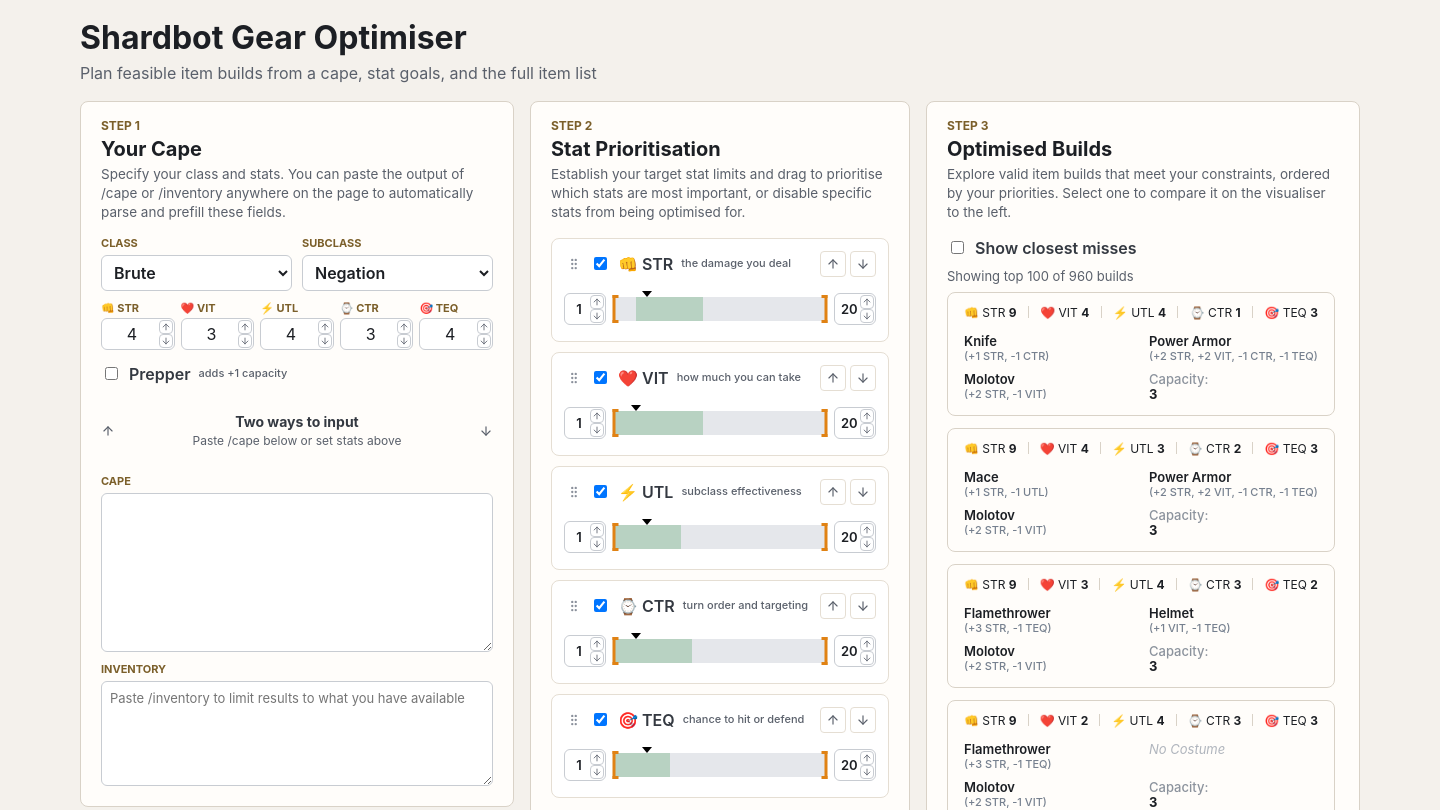
App › normalizes base stat inputs when committed
Step 1. Replace the text in the field named "strength" with "04" → (138, 334), box [101,318,175,350]
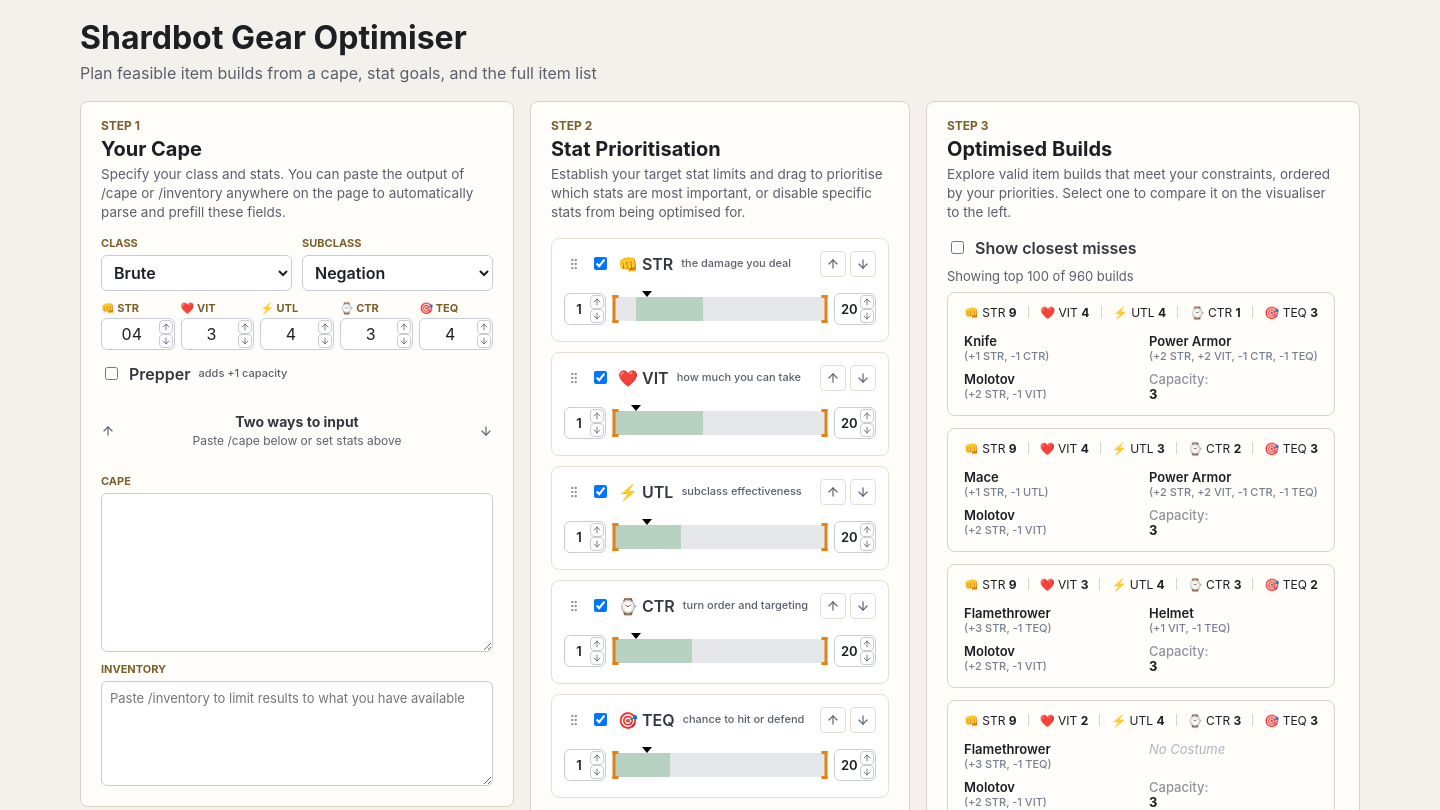
Step 2. Leave the field named "strength", box [101,318,175,350]
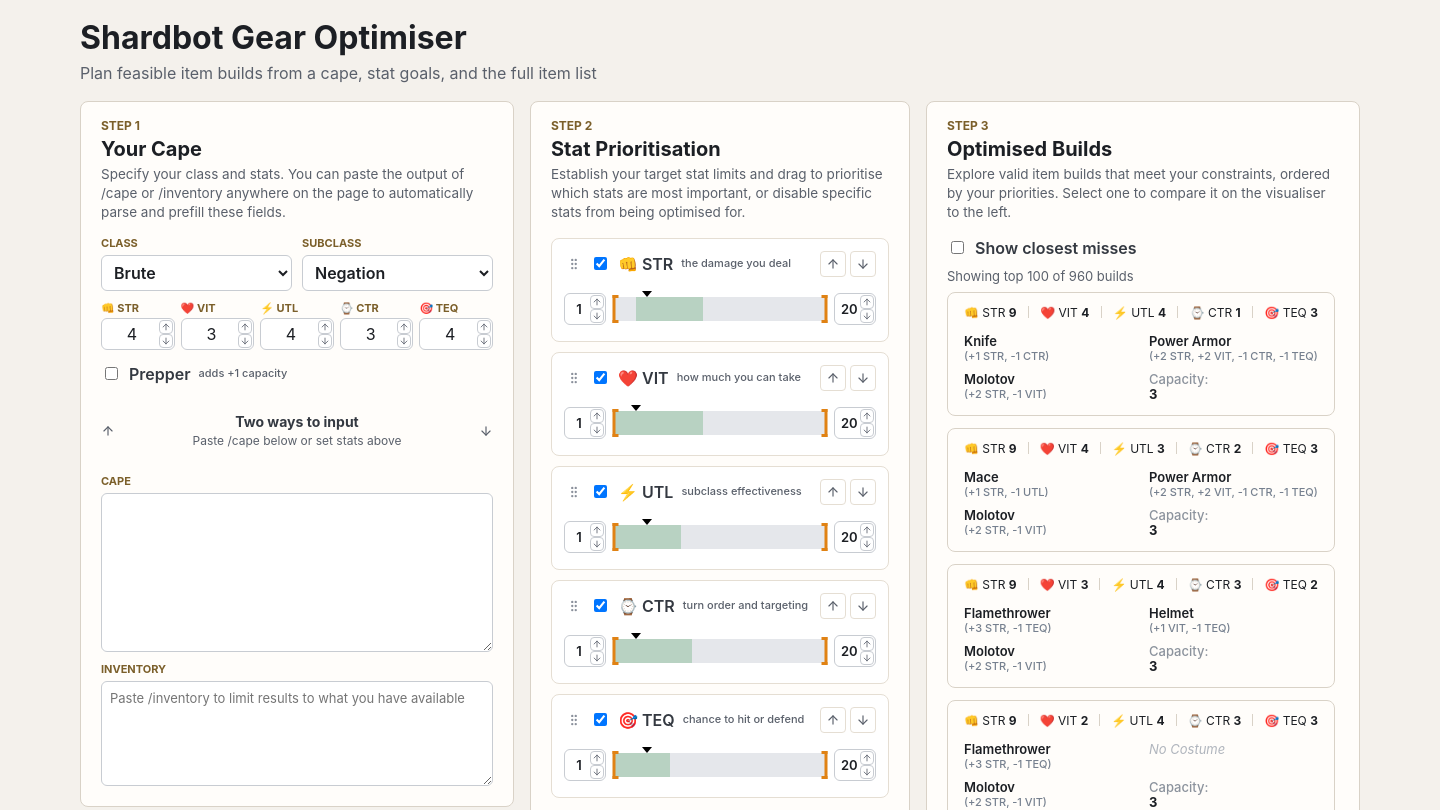
expect the field named "strength" holds "4": met, box [101,318,175,350]
